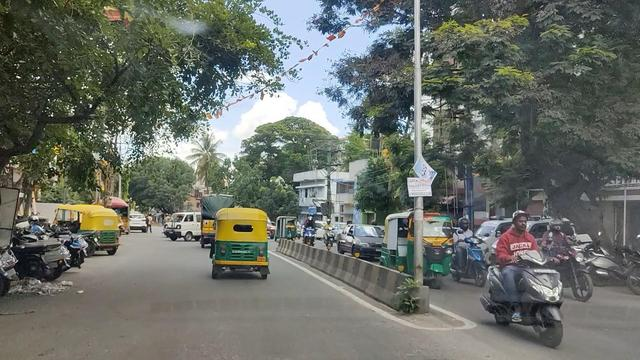LMV: (214, 210, 267, 280), (65, 213, 127, 246)
